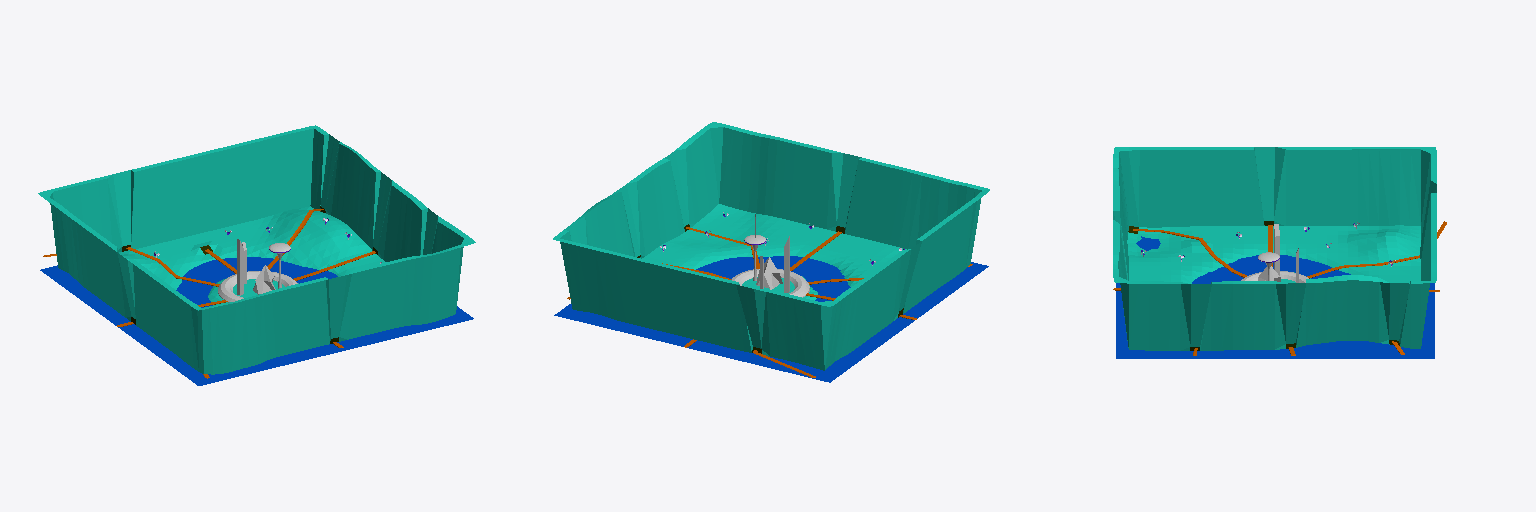
Rendered from saturn.obj.
3 renders of one model, left to right at view 1: azimuth 30°, elevation 25°; view 2: azimuth 150°, elevation 25°; view 3: azimuth 270°, elevation 25°, orthographic.
Visible parts, largest first — view 1: Plane, Plane.001, Torus; view 2: Plane, Plane.001, Torus; view 3: Plane, Plane.001.
Boxes of the visible parts, x1,y1,x2,y2 form: Plane: [38, 125, 475, 374]; Plane.001: [40, 257, 473, 385]; Torus: [218, 271, 297, 302]; Plane: [553, 122, 989, 370]; Plane.001: [554, 256, 988, 382]; Torus: [731, 269, 809, 297]; Plane: [1113, 147, 1436, 350]; Plane.001: [1116, 236, 1434, 358].
Bounding box in the file's own units: 29.71 × 9.05 × 29.94.